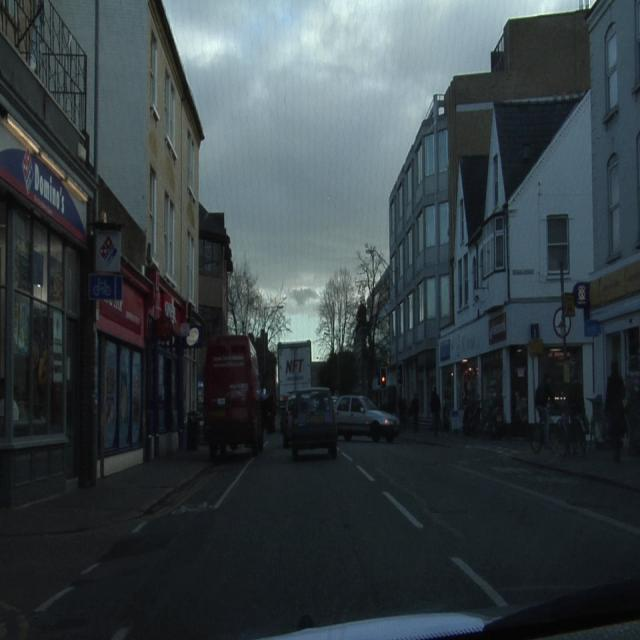Building: (2, 2, 229, 497), (385, 1, 637, 442)
Car: (283, 389, 336, 458), (338, 396, 398, 442)
Road: (2, 435, 639, 633)
Tree: (317, 242, 383, 388), (230, 255, 285, 355)
Truck_Bus: (203, 335, 263, 457), (278, 340, 311, 398)
person: (606, 360, 625, 452)
